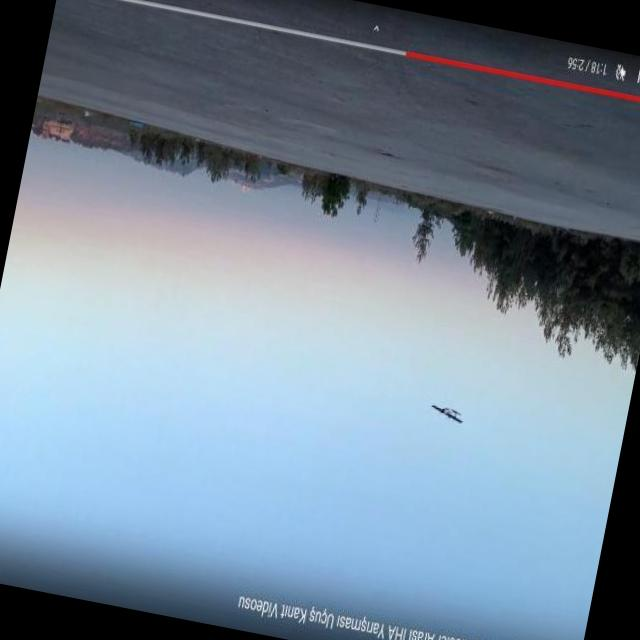UAV: (406, 388, 468, 432)
